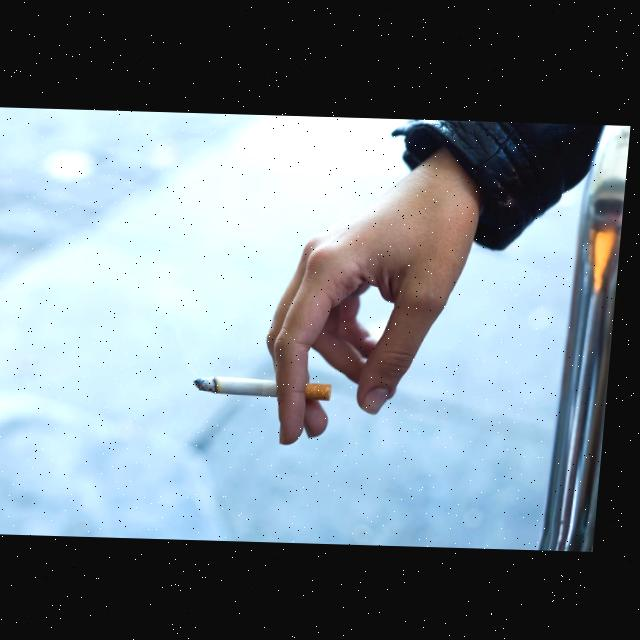cigarette: (199, 375, 340, 399)
